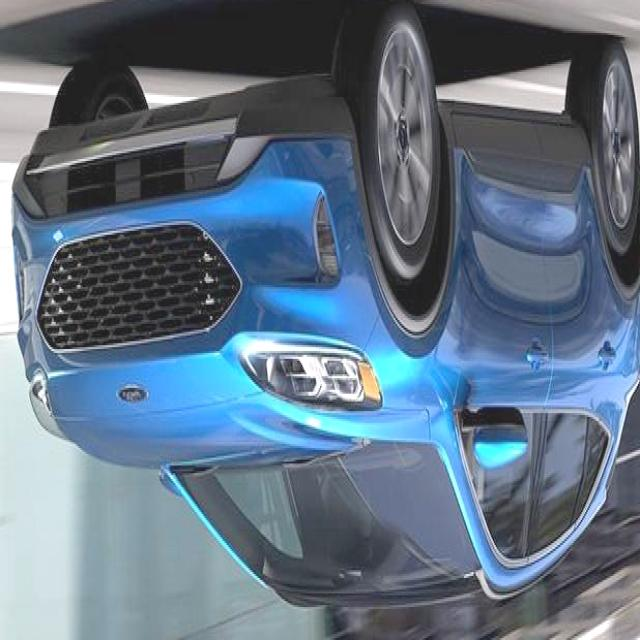blue: (9, 0, 640, 615)
